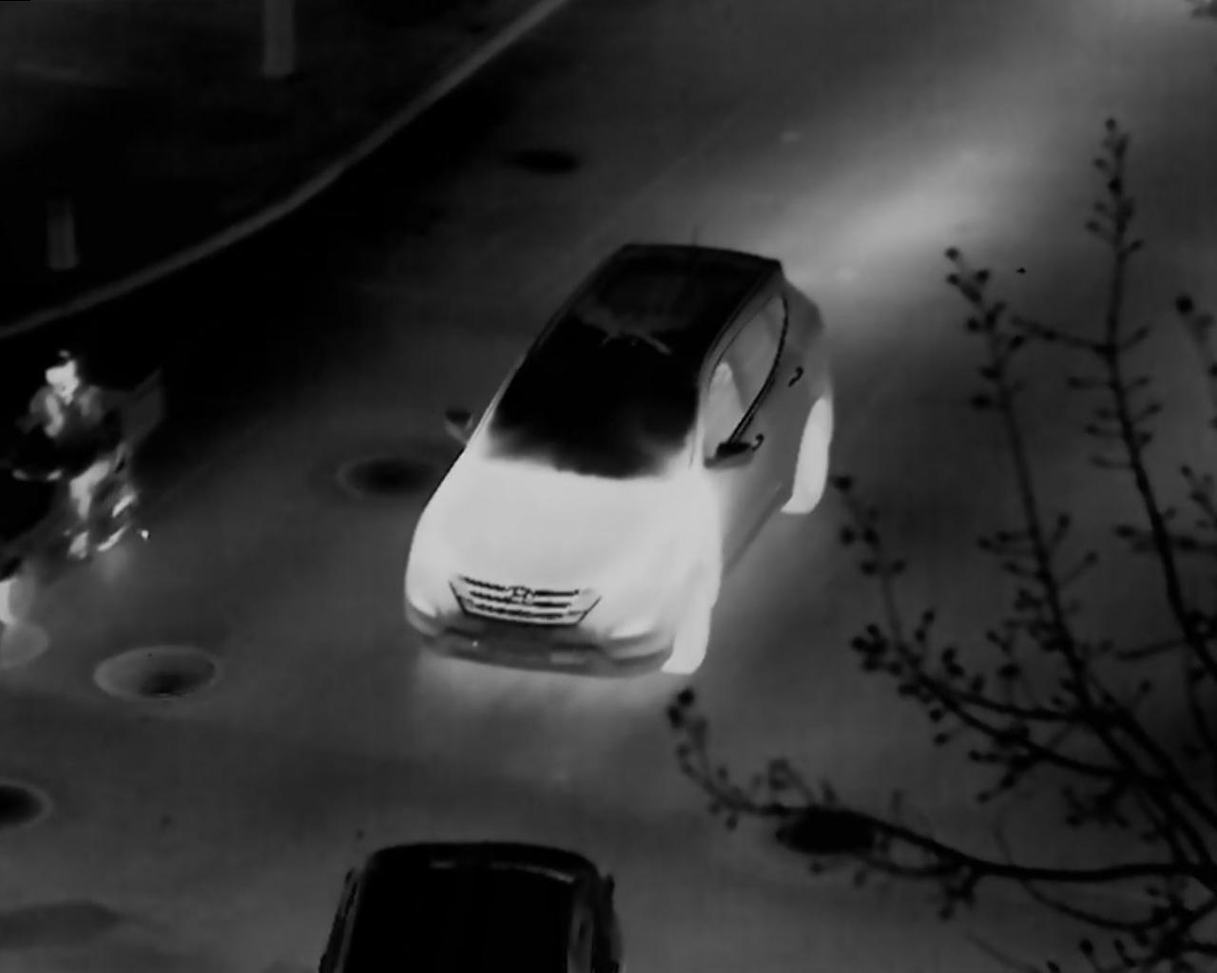person: (29, 340, 115, 576)
